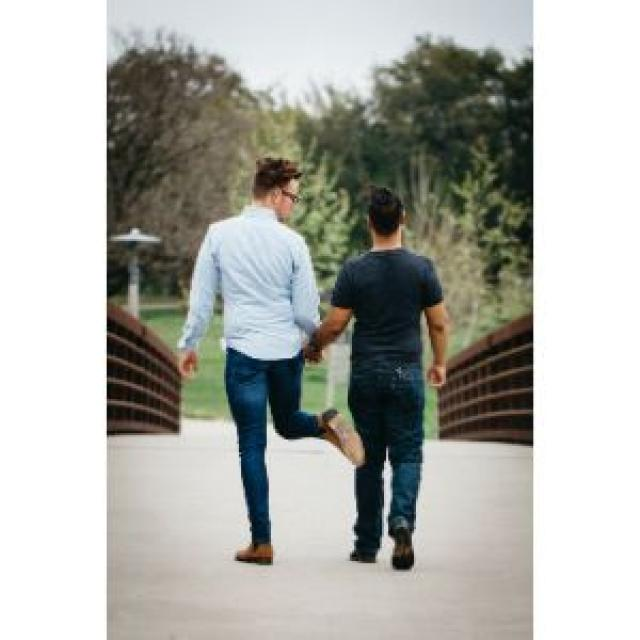nonfall: (195, 163, 337, 567), (350, 188, 449, 571)
